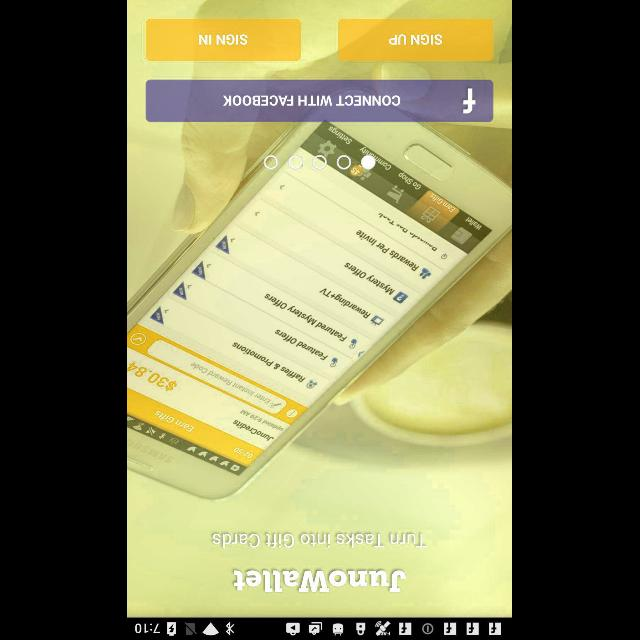backgroundimage: (128, 0, 512, 618)
pageindicator: (264, 154, 376, 170)
text: (233, 569, 407, 593), (212, 532, 428, 548)
textbutton: (146, 80, 494, 122), (146, 19, 302, 61), (340, 19, 494, 61)
uppertaskbar: (128, 617, 512, 639)
